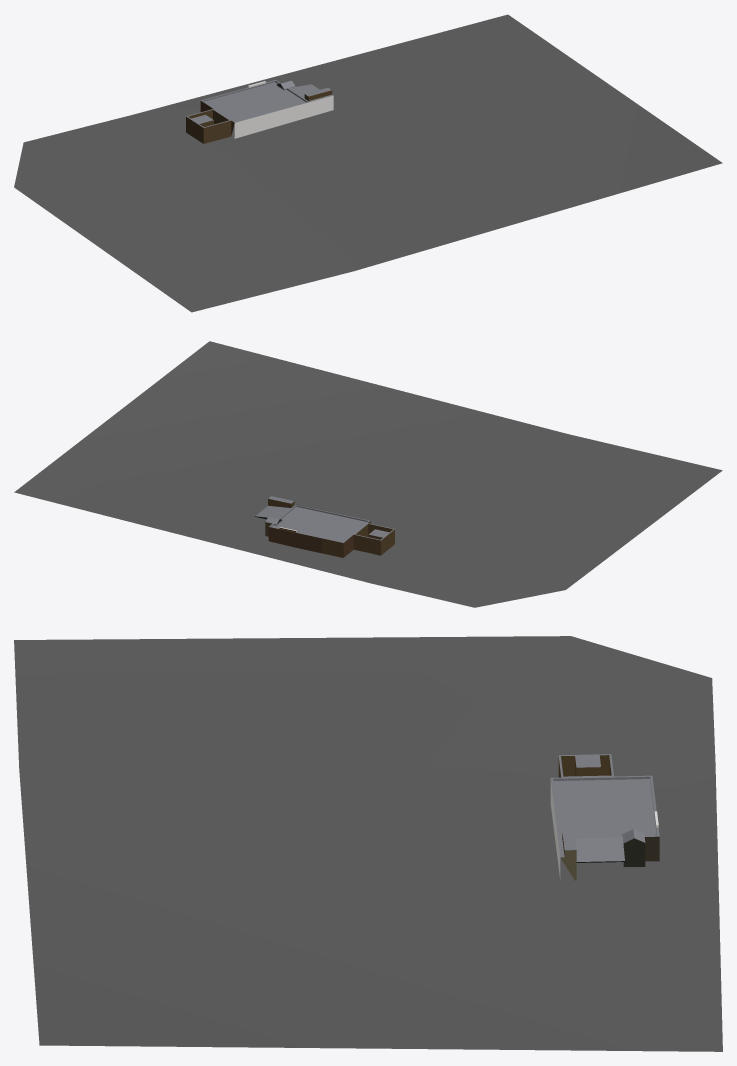
The model's file is applebees-neighborhood-grill-bar.glb.
3 views of the same model, one above another, from view 1: azimuth 30°, elevation 25°; view 2: azimuth 150°, elevation 25°; view 3: azimuth 270°, elevation 25° (orthographic). The views are drawn at different scales.
Visible parts, largest first — view 1: LOD0; view 2: LOD0; view 3: LOD0.
Boxes of the visible parts, x1=… form: LOD0: x1=14, y1=14, x2=722, y2=312; LOD0: x1=14, y1=341, x2=722, y2=607; LOD0: x1=14, y1=636, x2=722, y2=1051.
Size of what is drawn, in the model's own units: 186 by 7.05 by 130.
2 materials, 2 textured.
